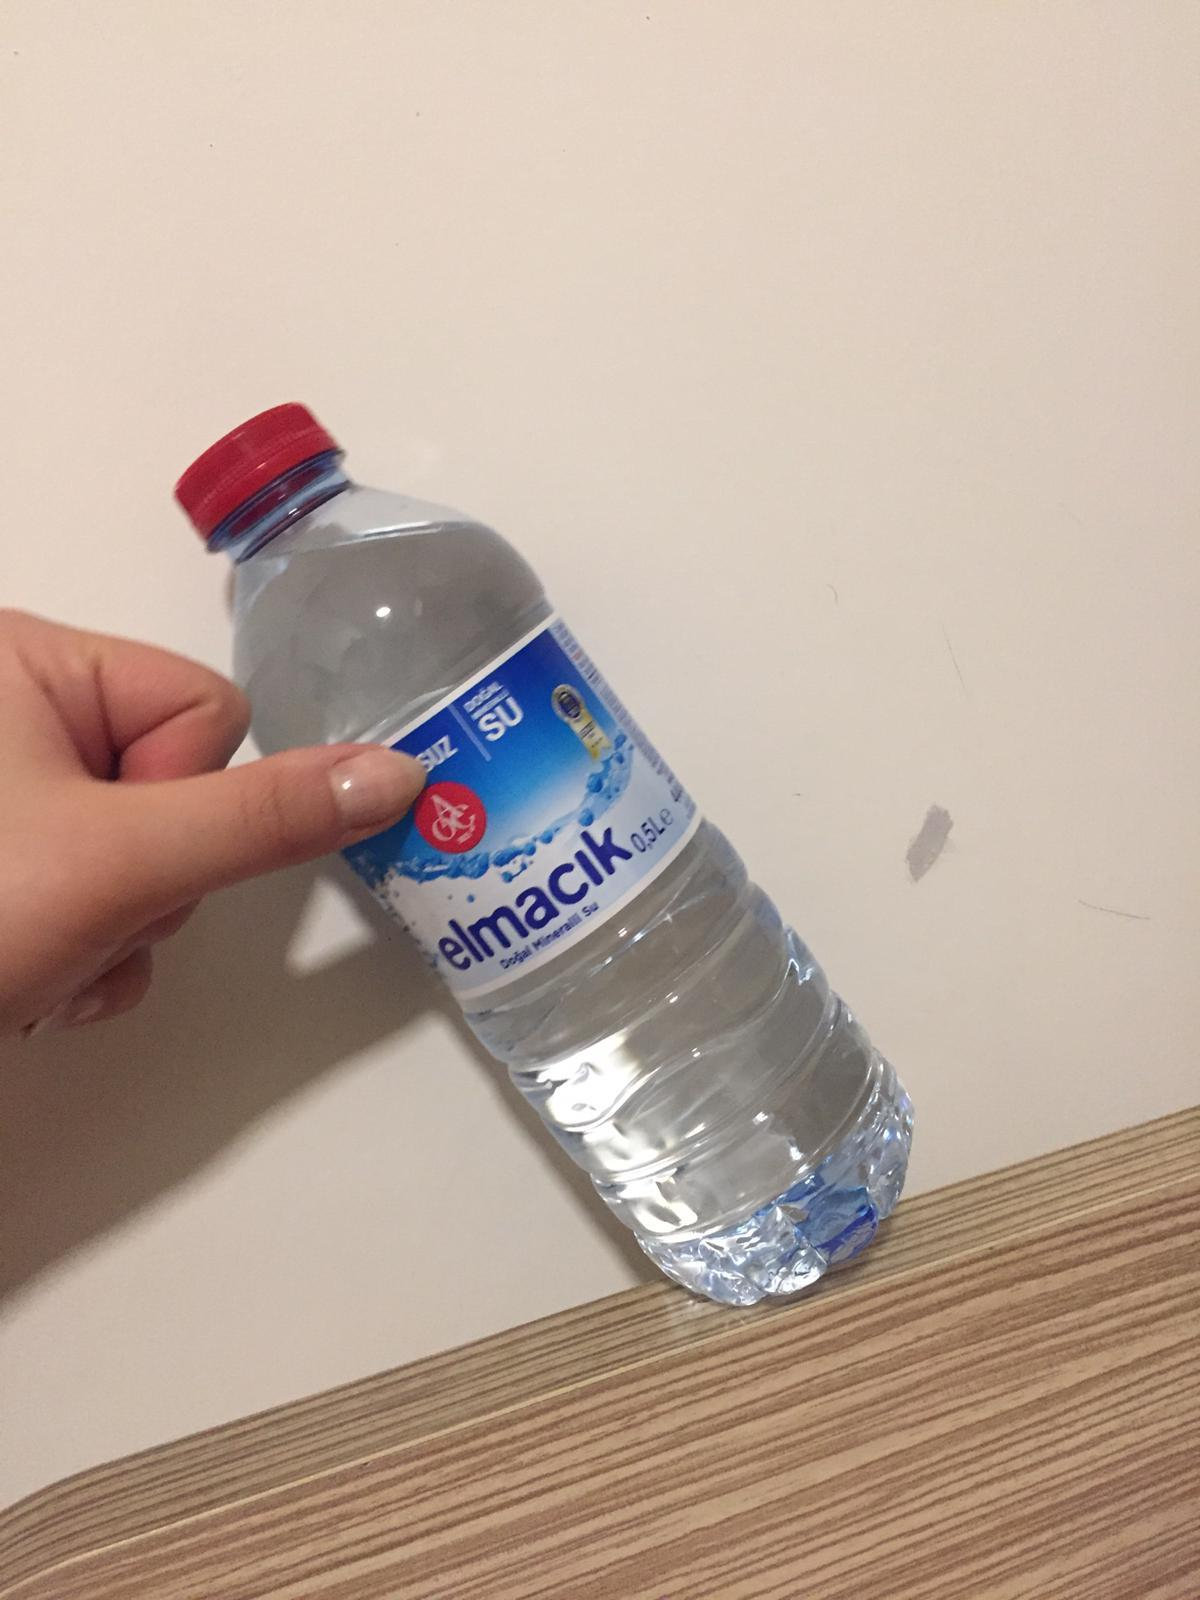bottle: (178, 397, 914, 1310)
